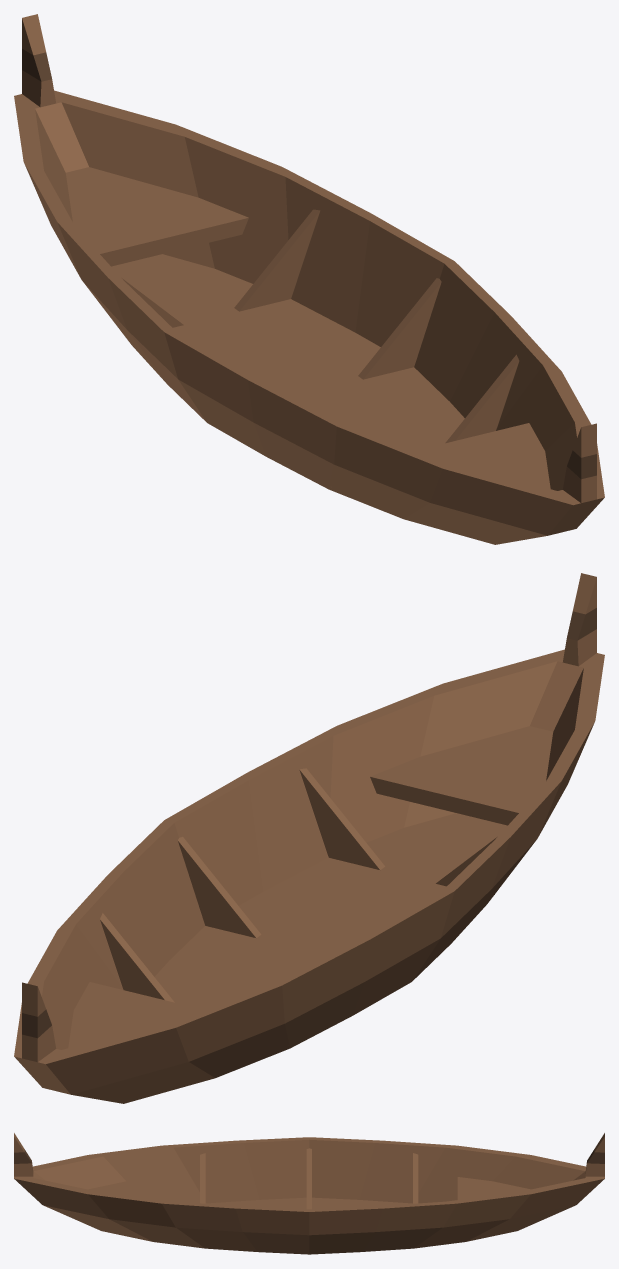
The model's file is Boat_3_Light_Brown.fbx.
The picture shows the model from 3 angles, top to bottom: view 1: azimuth 30°, elevation 25°; view 2: azimuth 150°, elevation 25°; view 3: azimuth 270°, elevation 25°; orthographic projection. The views are drawn at different scales.
Visible parts, largest first — view 1: Boat_3_Light_Brown; view 2: Boat_3_Light_Brown; view 3: Boat_3_Light_Brown.
Boxes of the visible parts, x1,y1,x2,y2 form: Boat_3_Light_Brown: [14, 14, 604, 544]; Boat_3_Light_Brown: [14, 573, 604, 1103]; Boat_3_Light_Brown: [14, 1133, 604, 1254].
Bounding box in the file's own units: 300 × 175 × 1000.
